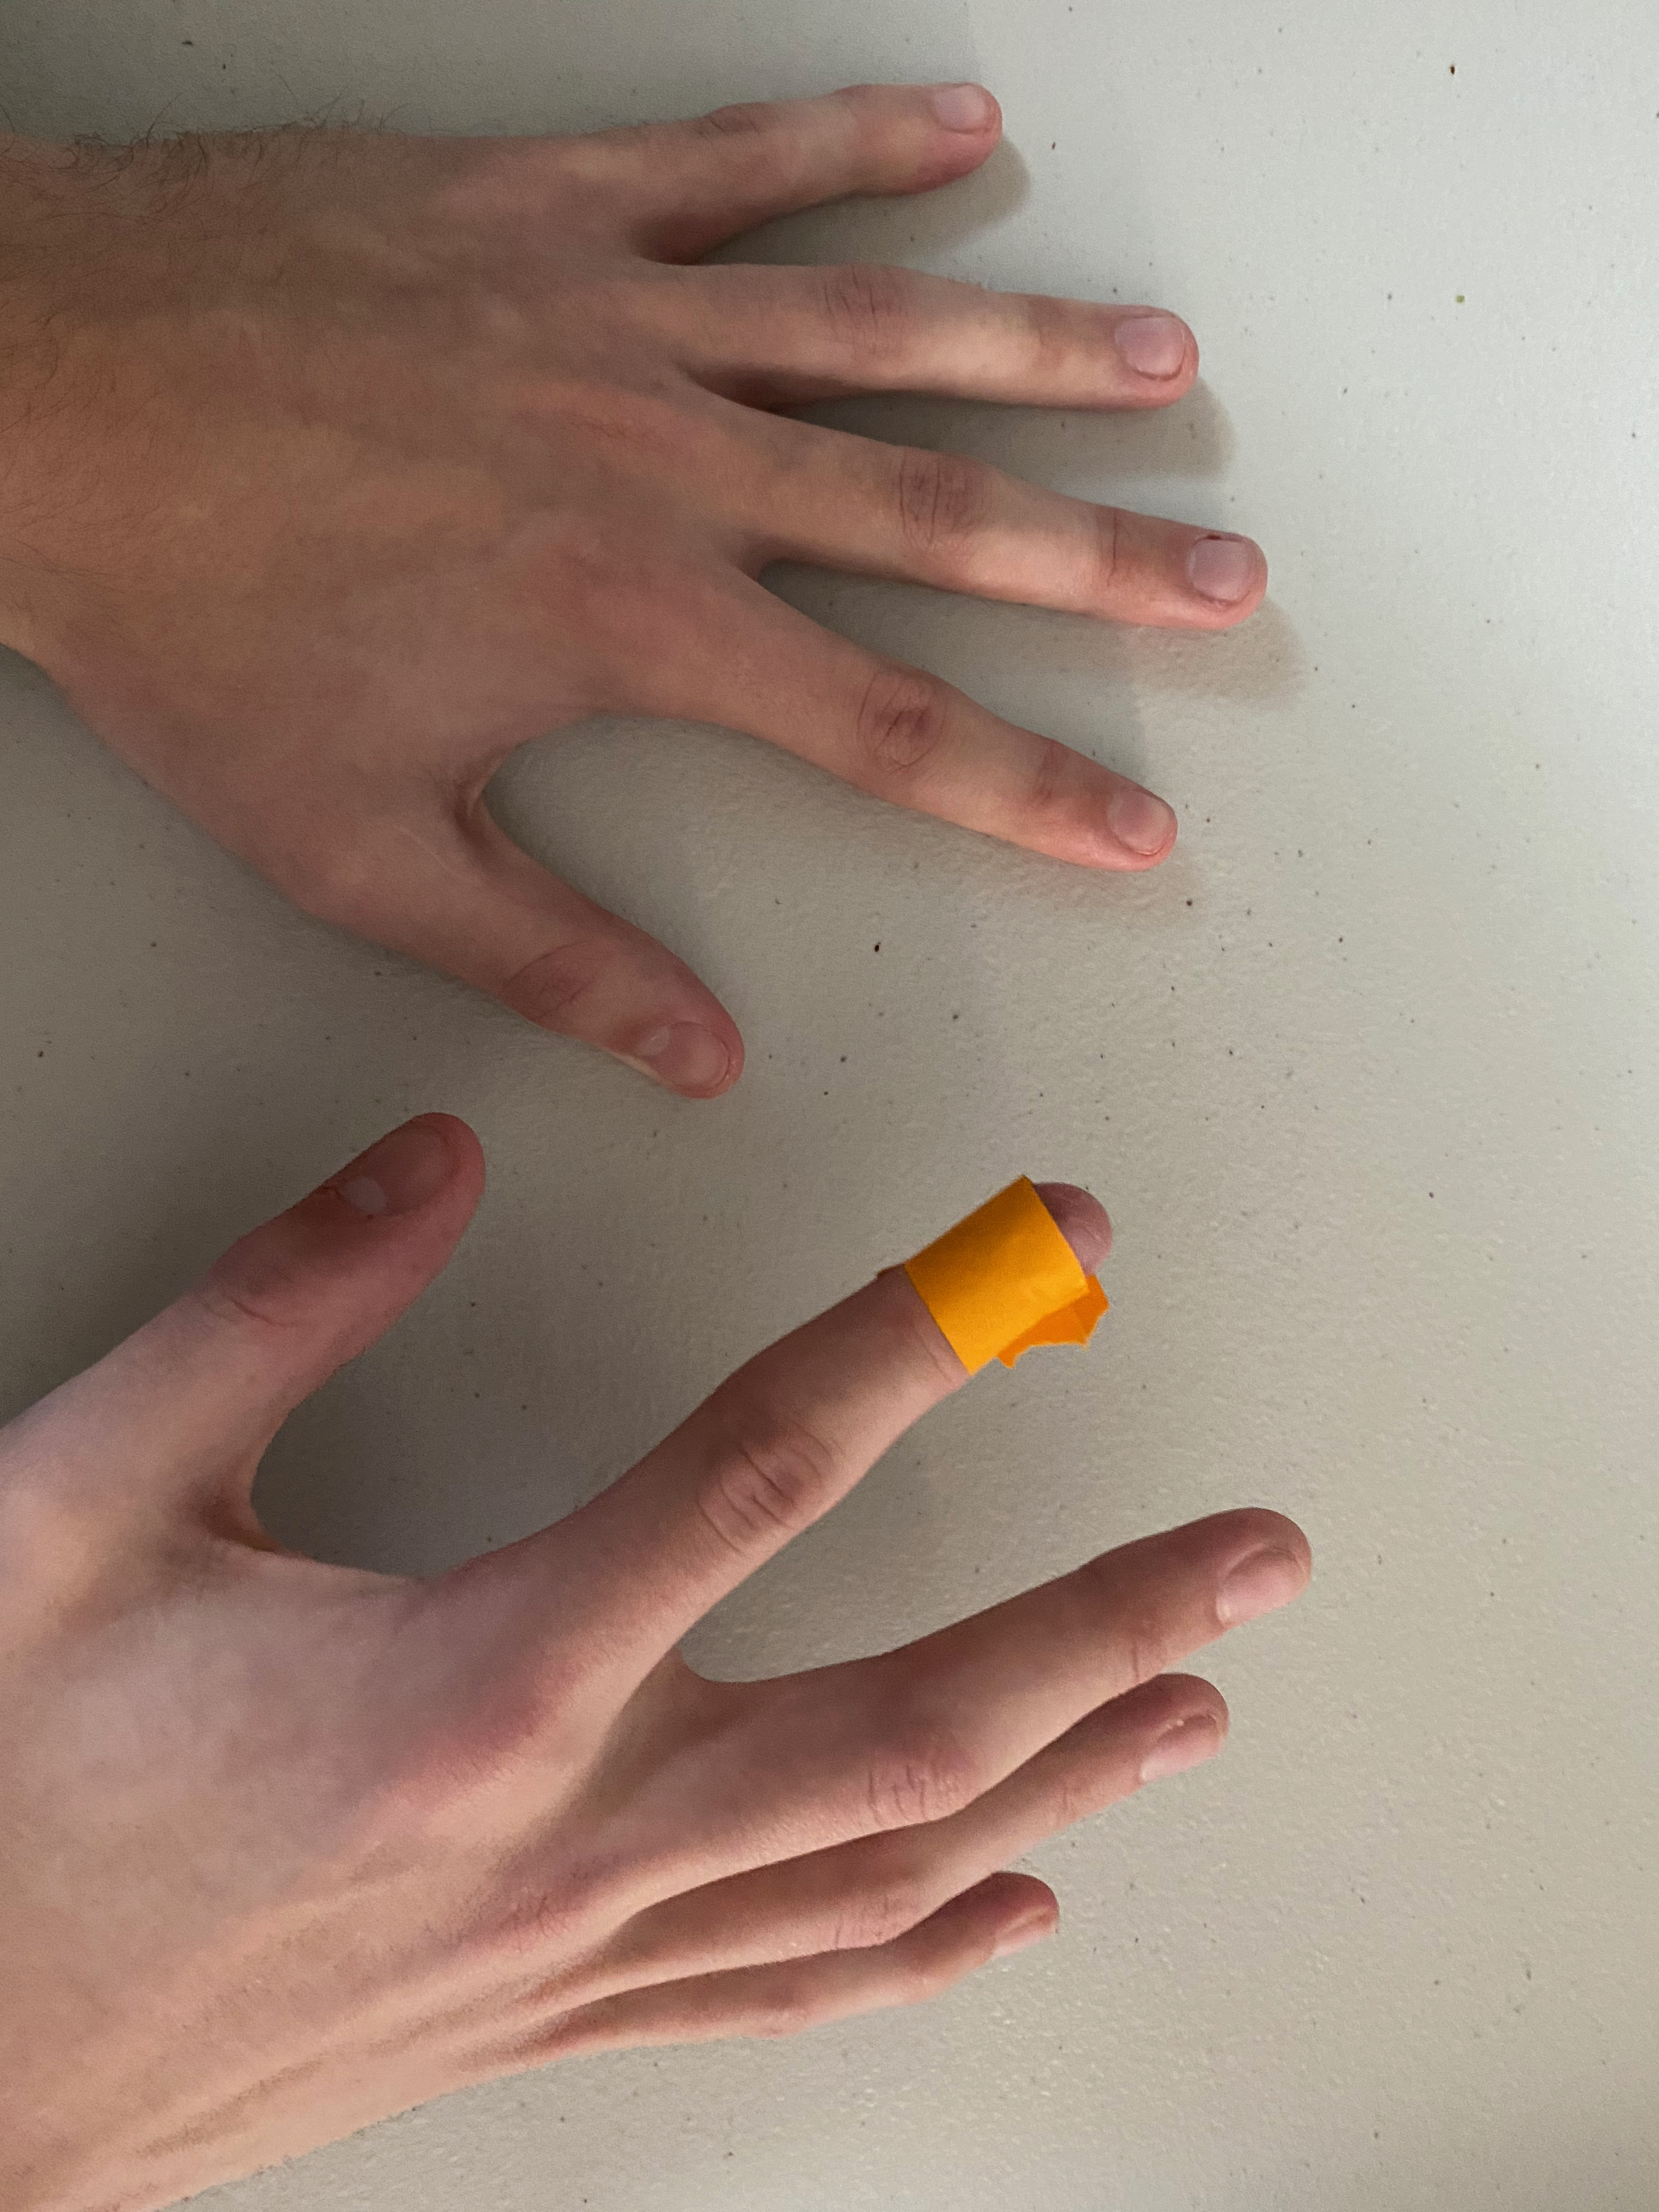fingertip: (864, 1144, 1178, 1420)
